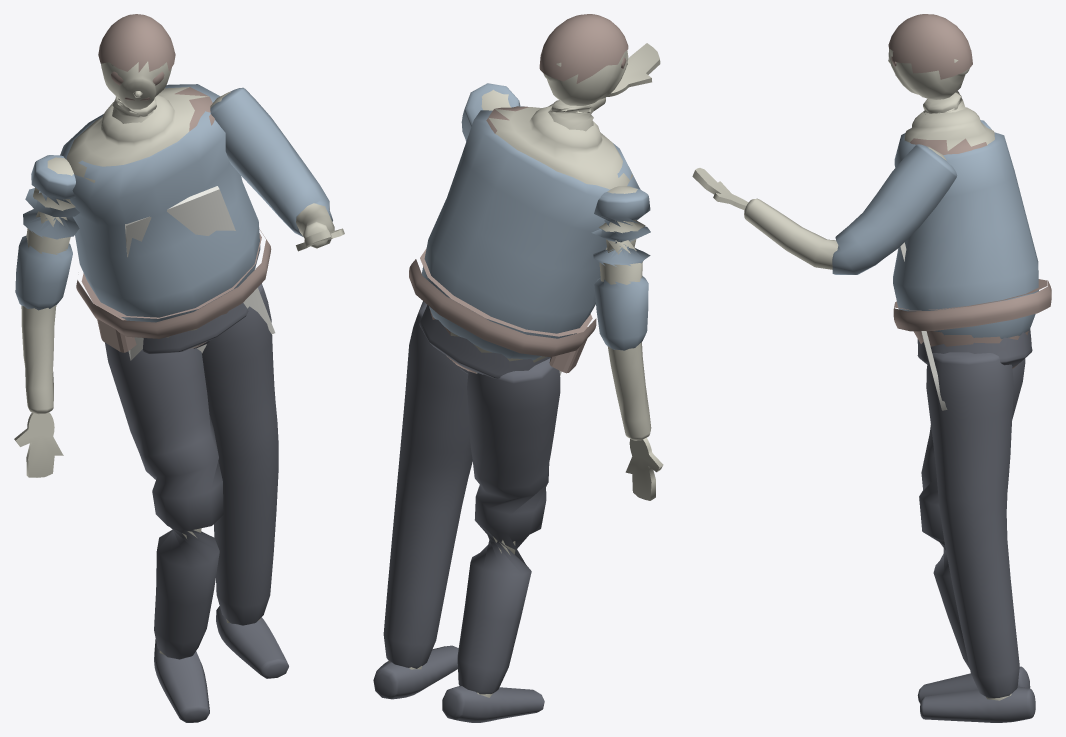
Rendered from undead-horde-and-infected-variants-walker-shop-keeper--ddff578c__11994.glb.
The picture shows the model from 3 angles, left to right: view 1: azimuth 30°, elevation 25°; view 2: azimuth 150°, elevation 25°; view 3: azimuth 270°, elevation 25°; orthographic projection. The views are drawn at different scales.
Parts seen in each view (by area): view 1: walker-shop-keeper-leaning; view 2: walker-shop-keeper-leaning; view 3: walker-shop-keeper-leaning.
Part boxes in pixels (bbox=[...]): walker-shop-keeper-leaning: bbox=[14, 14, 344, 722]; walker-shop-keeper-leaning: bbox=[373, 14, 663, 722]; walker-shop-keeper-leaning: bbox=[692, 14, 1051, 722].
Size of the model in its own units: 0.6511 by 1.68 by 0.8239.
